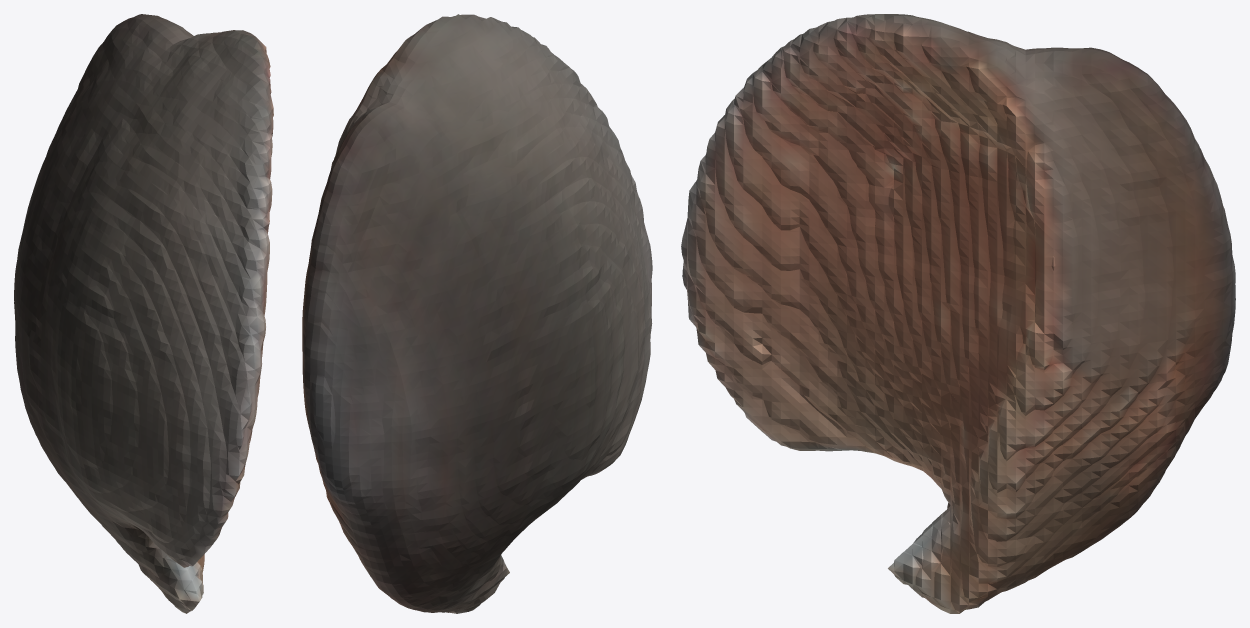
Rendered from lamp.glb.
The picture shows the model from 3 angles, left to right: view 1: azimuth 30°, elevation 25°; view 2: azimuth 150°, elevation 25°; view 3: azimuth 270°, elevation 25°; orthographic projection. The views are drawn at different scales.
Parts seen in each view (by area): view 1: geometry_0; view 2: geometry_0; view 3: geometry_0.
Boxes of the visible parts, left/top/right/bottom form: geometry_0: left=14, top=14, right=273, bottom=613; geometry_0: left=302, top=14, right=652, bottom=613; geometry_0: left=681, top=14, right=1235, bottom=613.
Size of the model in its own units: 0.3889 by 0.9935 by 0.8081.
